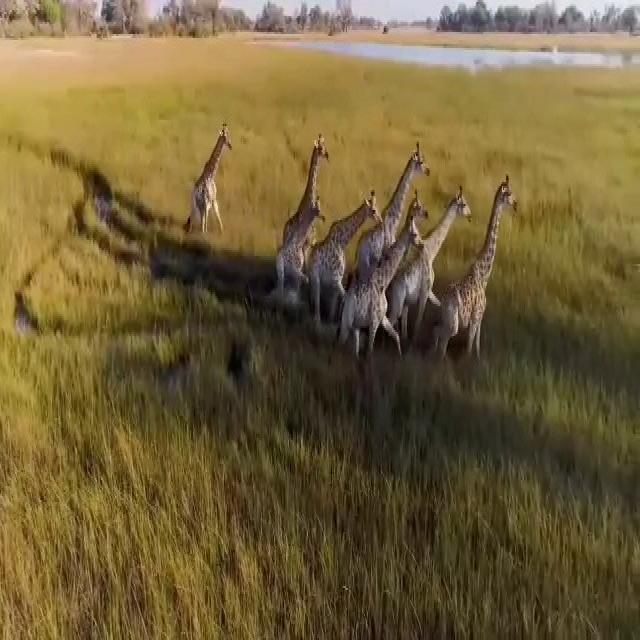Giraffe-elephant-deer-lion-zebra: (358, 137, 432, 340), (444, 203, 527, 362), (394, 190, 470, 351), (268, 130, 328, 304), (268, 130, 328, 303), (348, 222, 421, 364), (306, 190, 376, 326), (193, 127, 236, 237), (193, 126, 234, 239)
